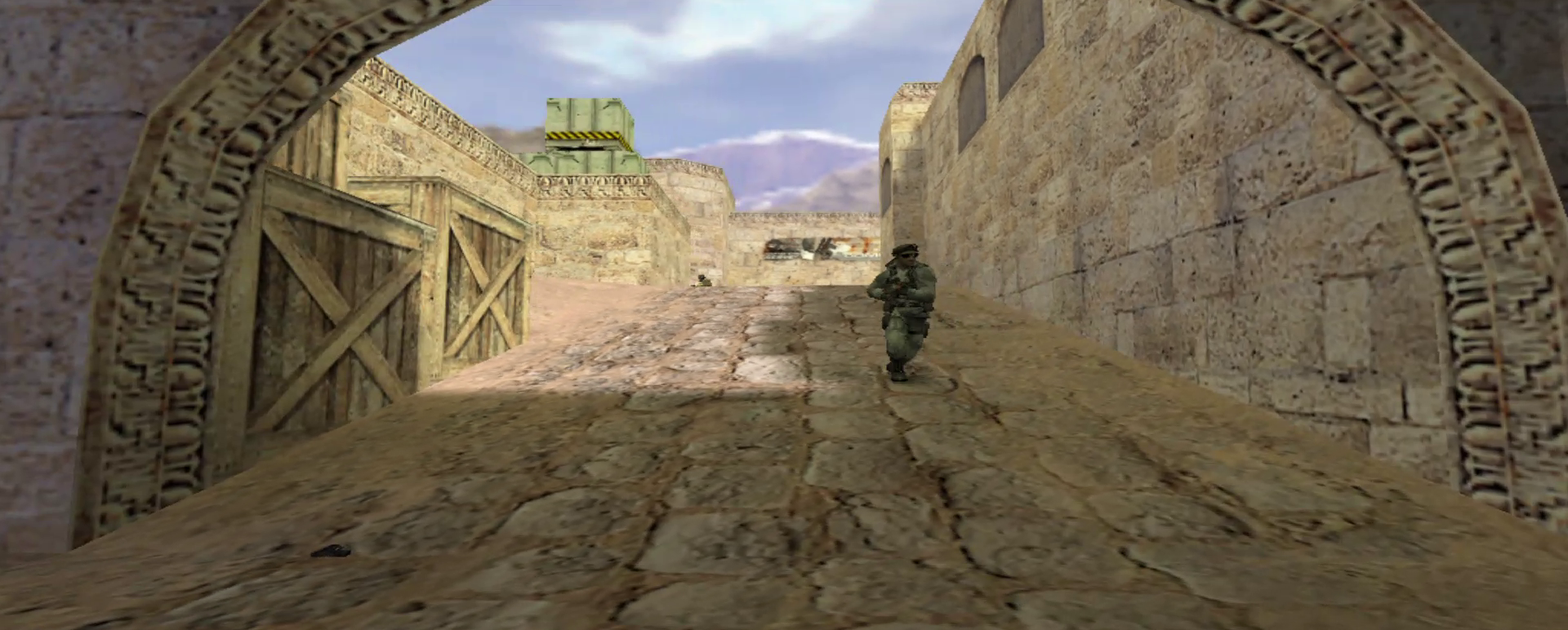ter: (871, 260, 936, 384)
ter_head: (893, 242, 918, 267)
